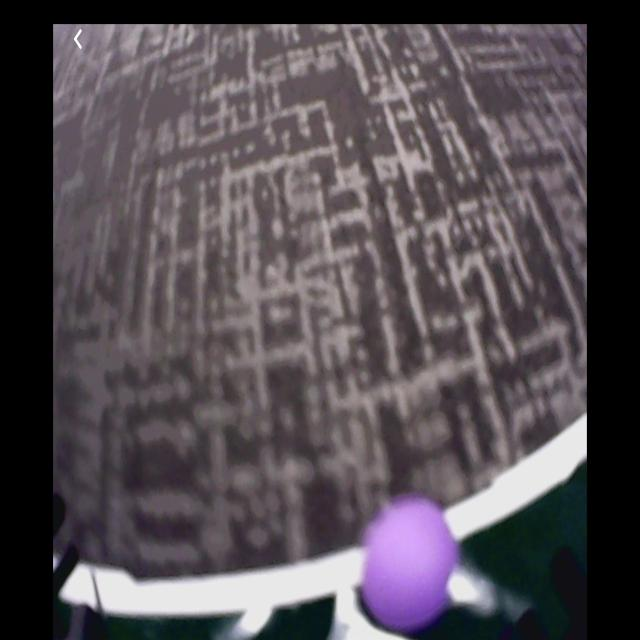ball: (365, 494, 462, 628)
